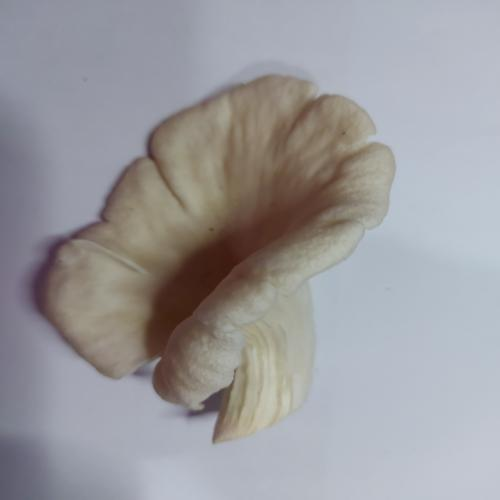Oyster Mushroom: (36, 72, 397, 444)
